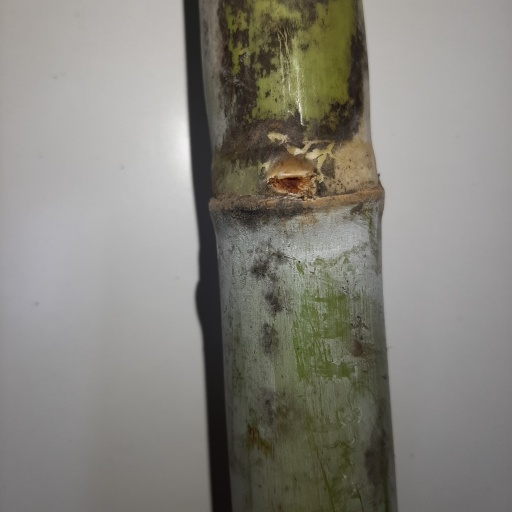Damage_Bud: (264, 154, 317, 198)
